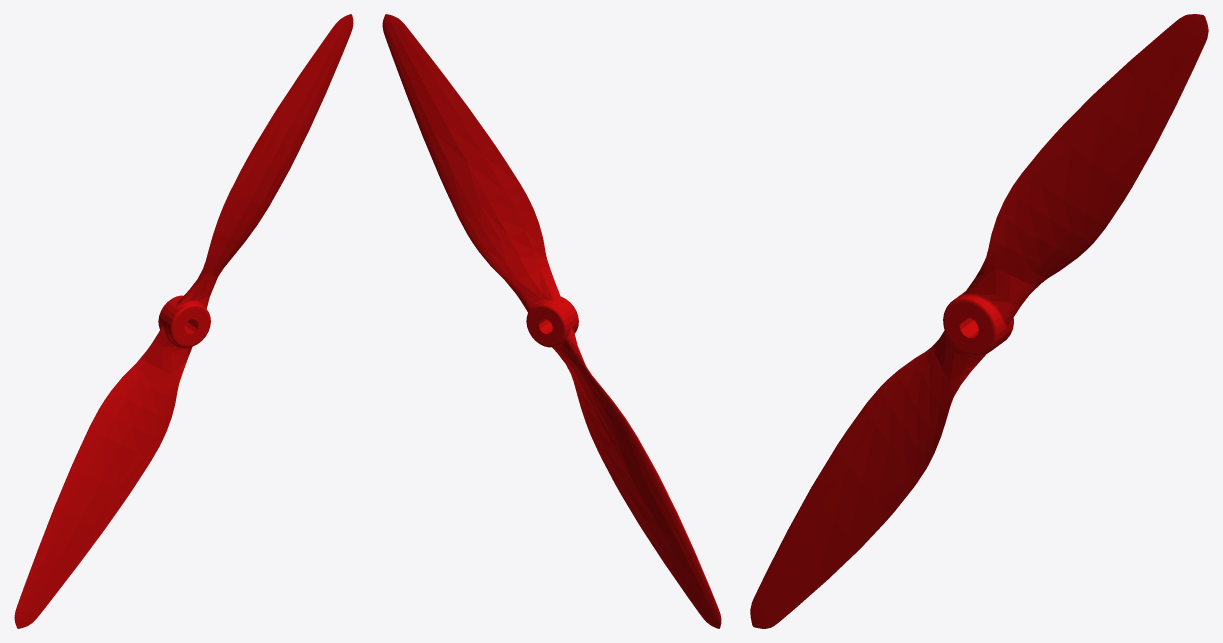
Rendered from prop1_link.dae.
3 views of the same model, side by side, from view 1: azimuth 30°, elevation 25°; view 2: azimuth 150°, elevation 25°; view 3: azimuth 330°, elevation 25° (orthographic). The views are drawn at different scales.
Visible parts, largest first — view 1: node; view 2: node; view 3: node.
Part boxes in pixels (x1=…): node: x1=14, y1=14, x2=353, y2=628; node: x1=382, y1=14, x2=721, y2=628; node: x1=750, y1=14, x2=1208, y2=628.
Size of the model in its own units: 0.1414 by 0.2129 by 0.0106.
